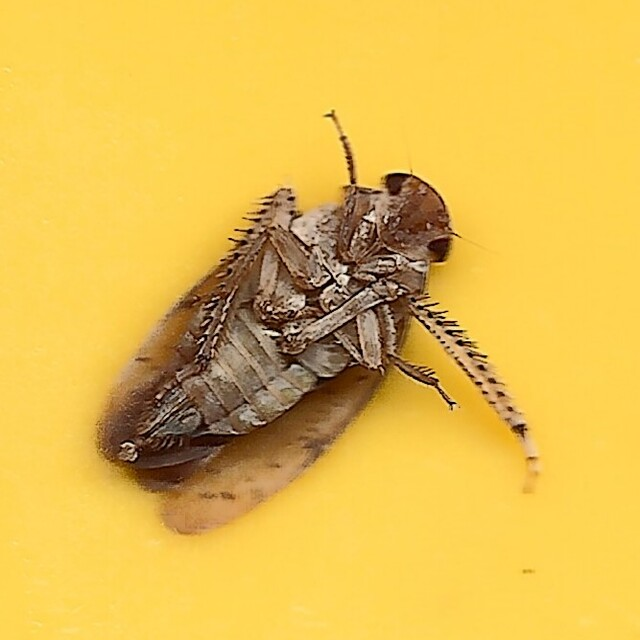Hemiptera: (96, 101, 544, 539)
